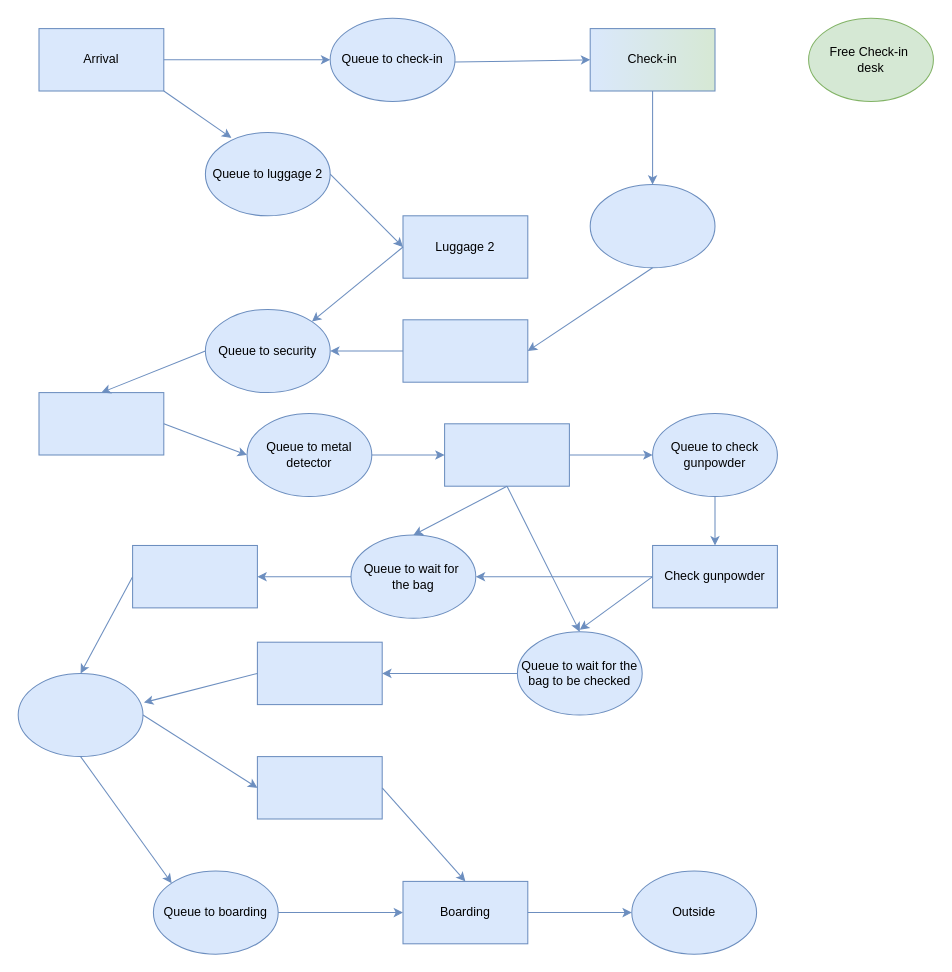
This 952x972 diagram has some shape labels left out. The shapes that lost their labels are listed below. From the top down, each one's centre as x and y in pixels, then its label:
At (x=652, y=226): "Queue to luggage 1".
At (x=465, y=350): "Luggage 1".
At (x=101, y=423): "Load tray".
At (x=506, y=454): "Metal detector".
At (x=194, y=576): "Wait for bag".
At (x=319, y=673): "Wait for the bag to be checked".
At (x=80, y=714): "Queue to migrations".
At (x=319, y=787): "Migrations".
